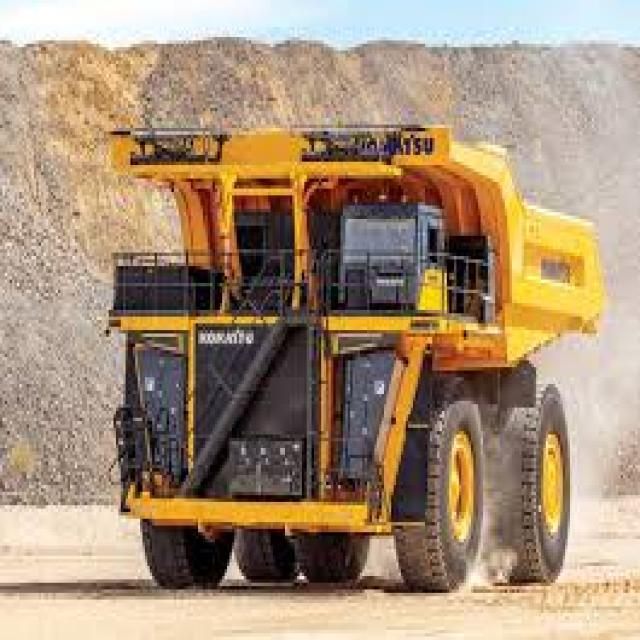dump_truck: (99, 101, 606, 627)
